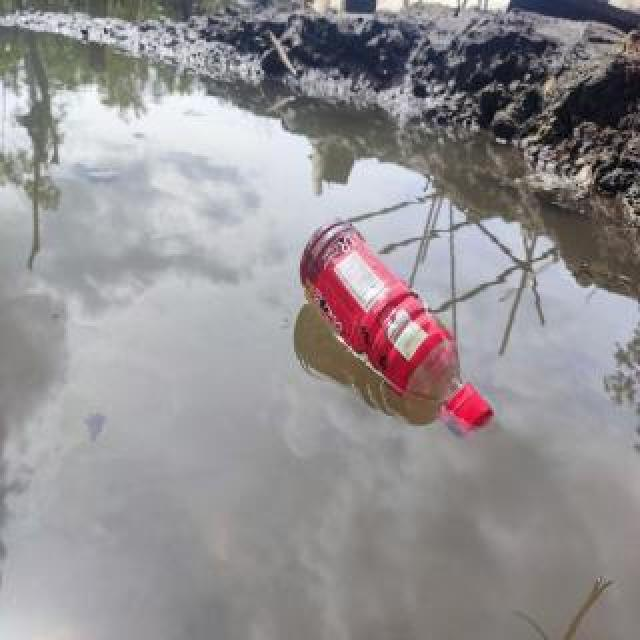bottle: (295, 212, 501, 442)
